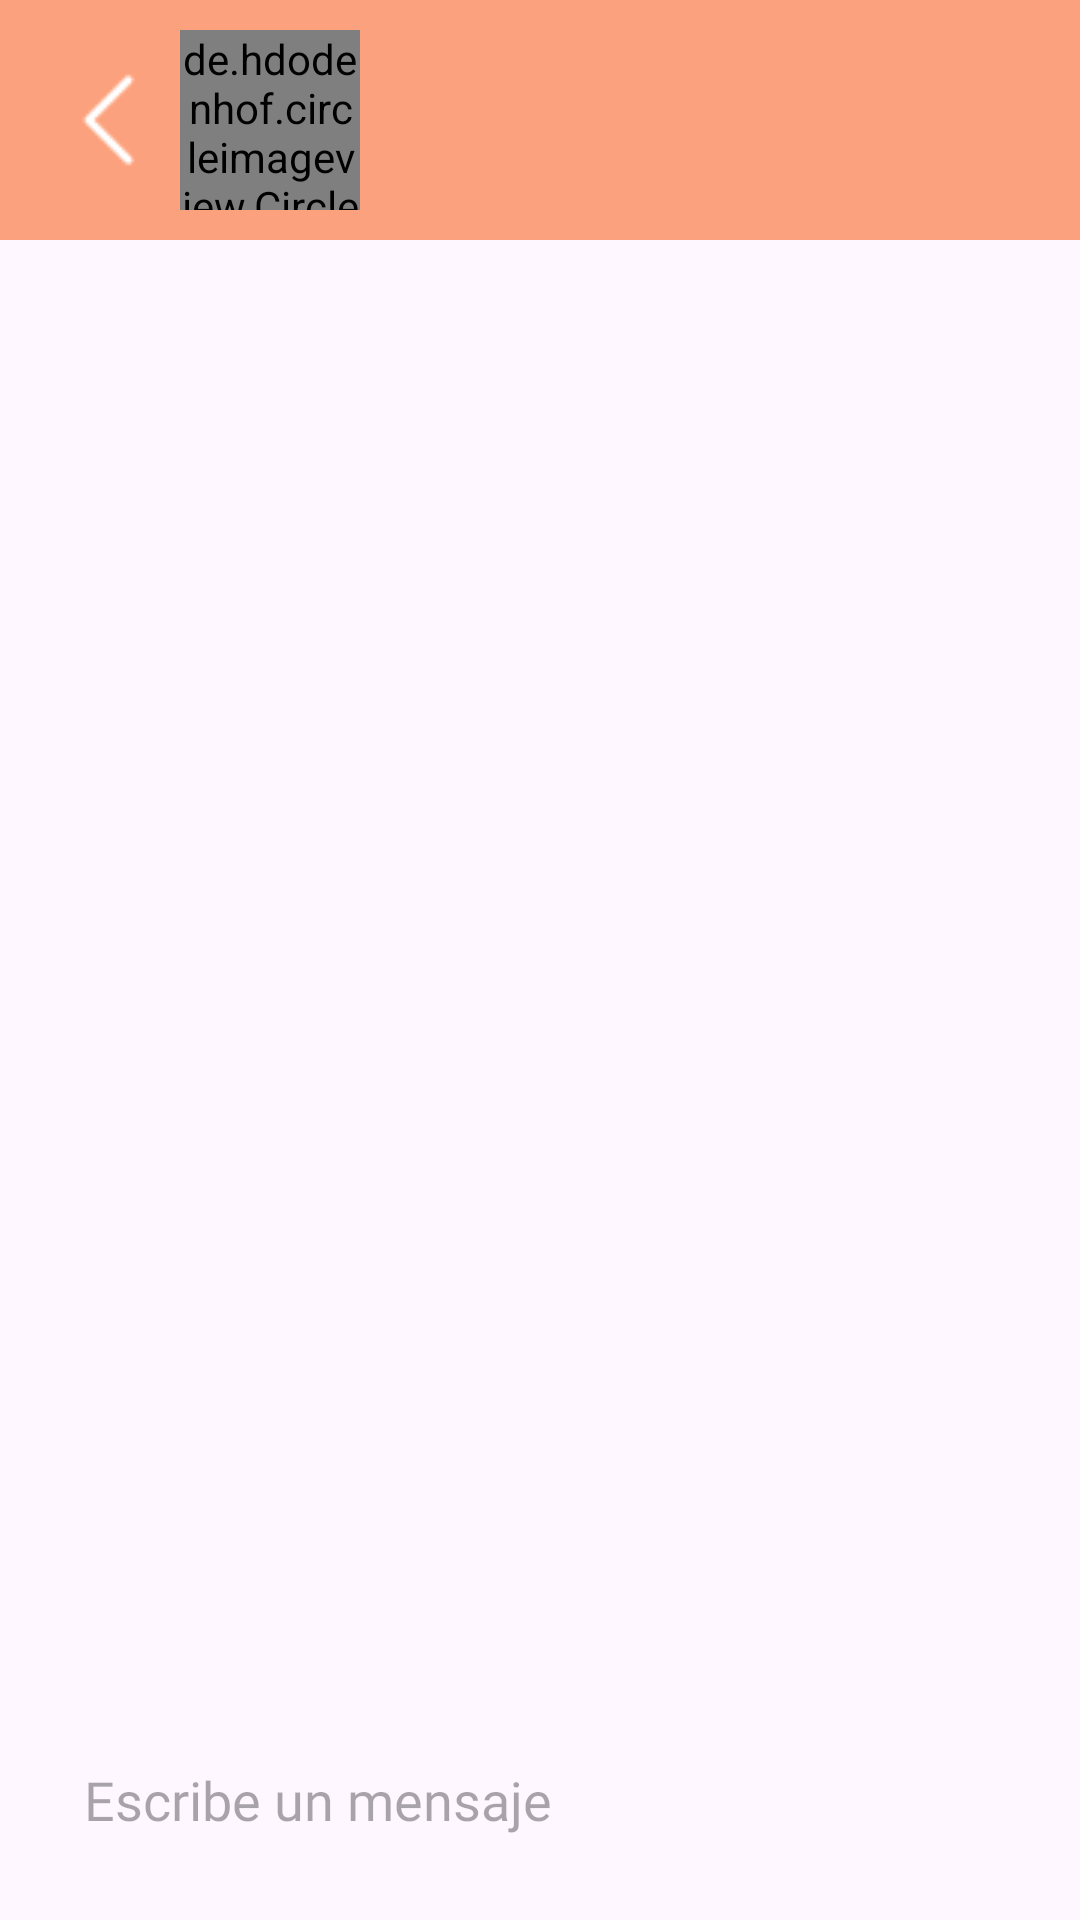

Where to tap for icons on this 1080*1920 app screen, as (x=x, y=y):
back: (x=108, y=120)
